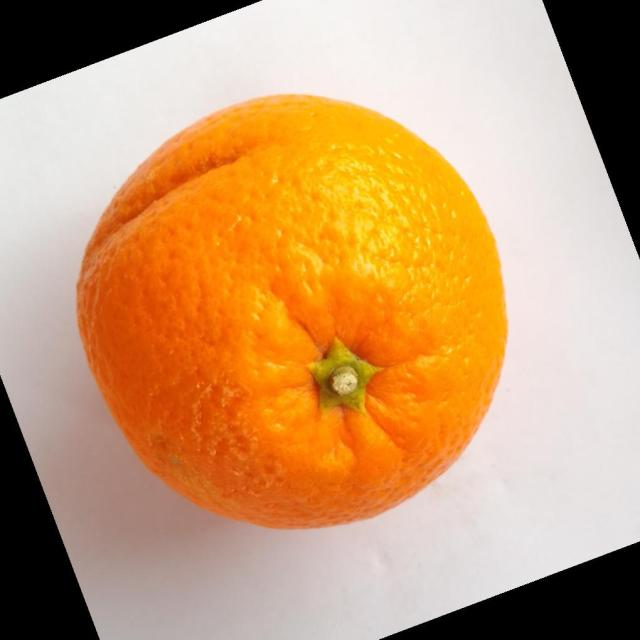fresh orange: (75, 92, 509, 530)
